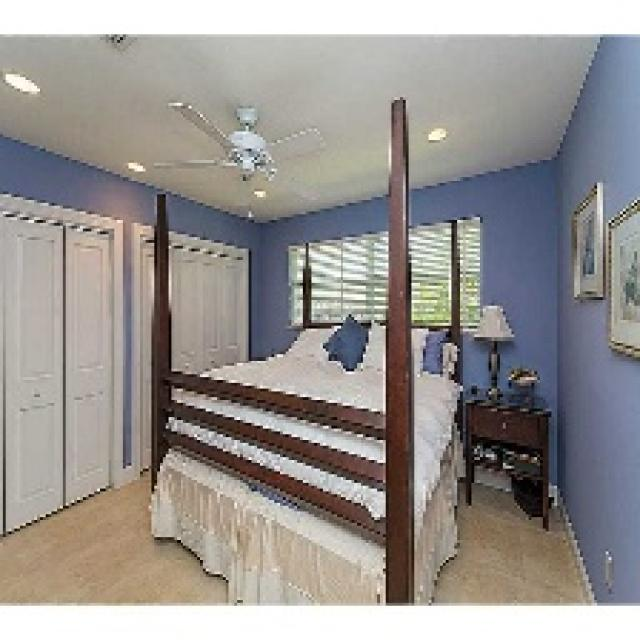Bed: (146, 97, 468, 603)
